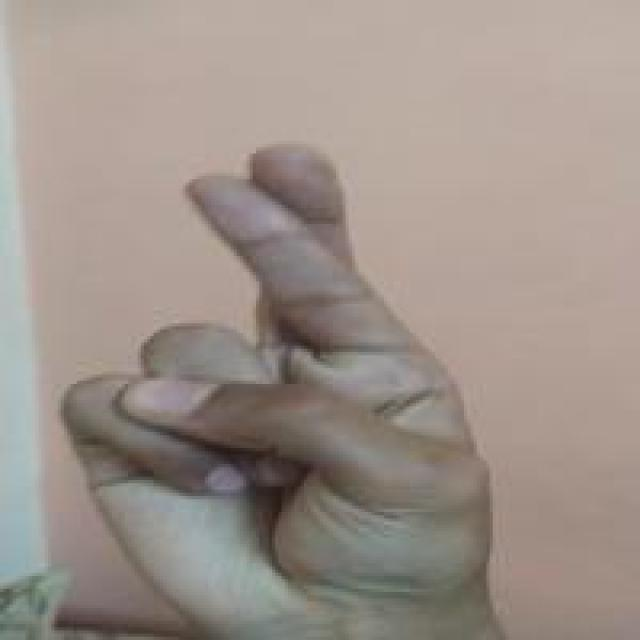R: (46, 133, 501, 632)
